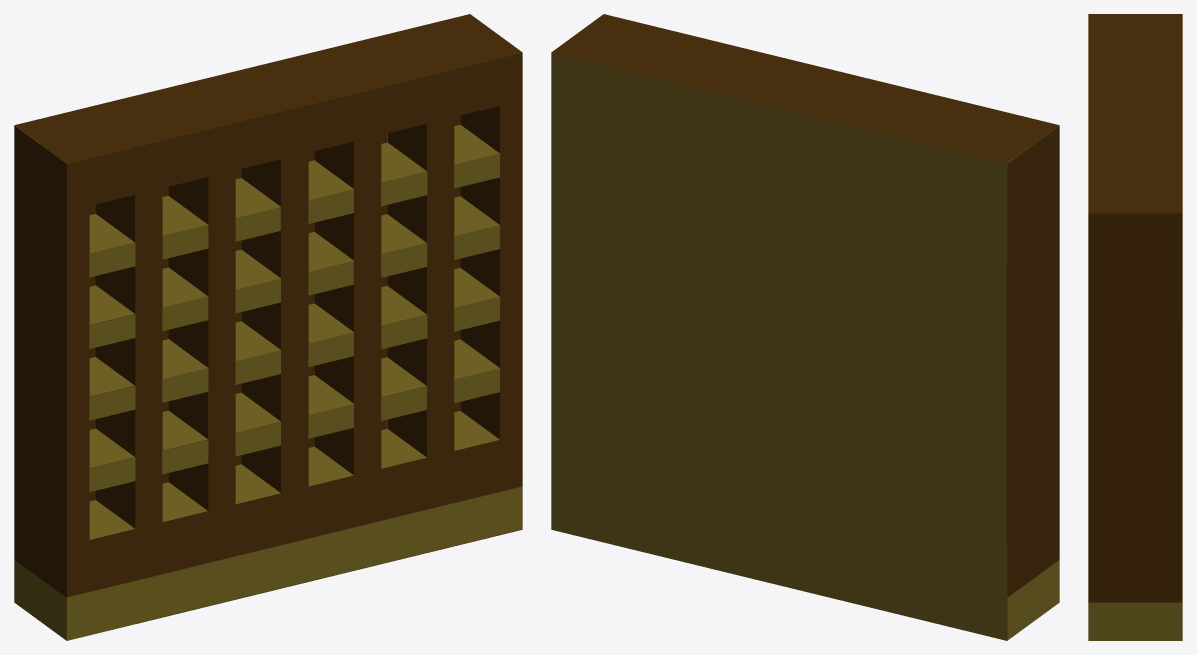
Rendered from MOD_MuebleLlaves.fbx.
The picture shows the model from 3 angles, left to right: view 1: azimuth 30°, elevation 25°; view 2: azimuth 150°, elevation 25°; view 3: azimuth 270°, elevation 25°; orthographic projection. The views are drawn at different scales.
Visible parts, largest first — view 1: LLavesCajon; view 2: LLavesCajon; view 3: LLavesCajon.
Part boxes in pixels (x1,y1,x2,y2): LLavesCajon: (14,14,522,640); LLavesCajon: (551,14,1059,640); LLavesCajon: (1088,14,1182,640).
Size of the model in its own units: 1000 by 1000 by 200.
